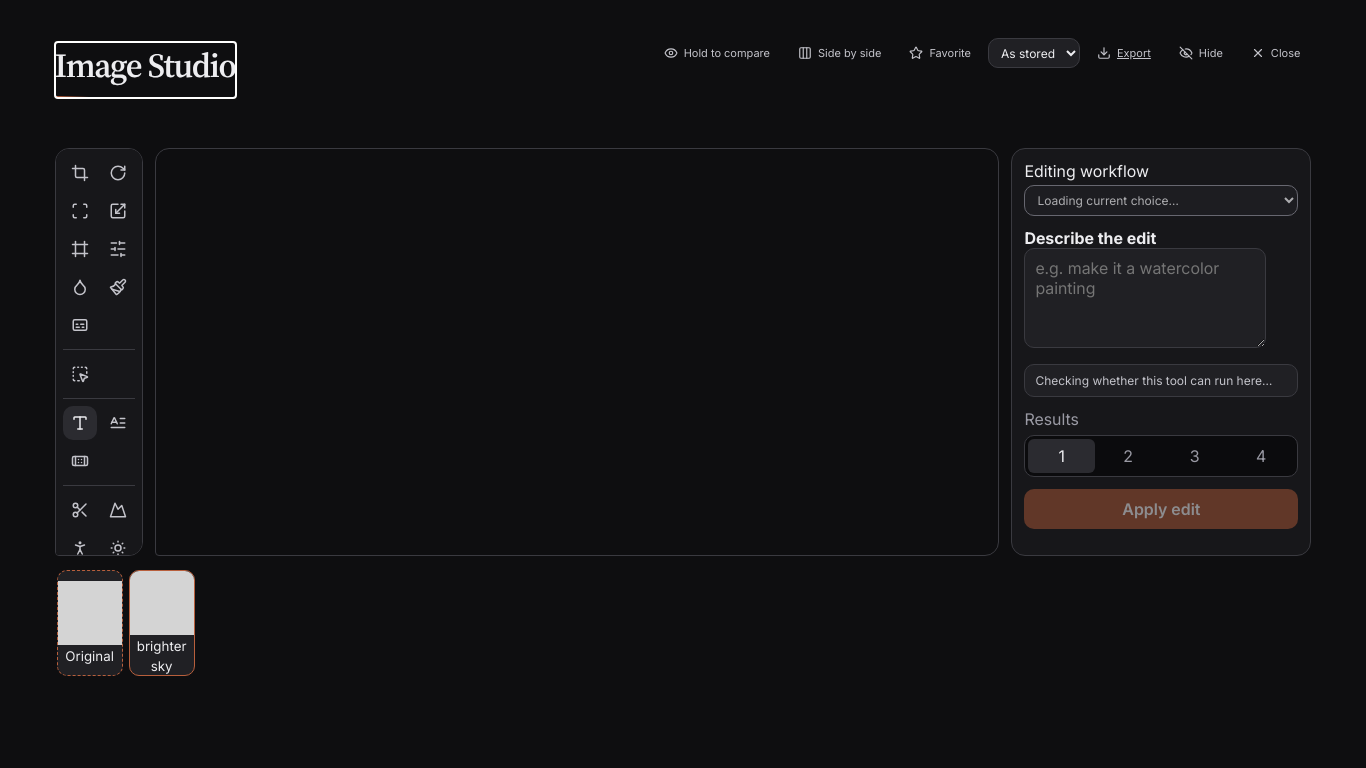
Test: side by side in the studio › puts a result beside a picture of another shape, which a split cannot line up
What coordinates should you click on to do the following:
click the button "Side by side"
I would click on:
 (840, 53)
Its box is x1=787 y1=38 x2=892 y2=68.
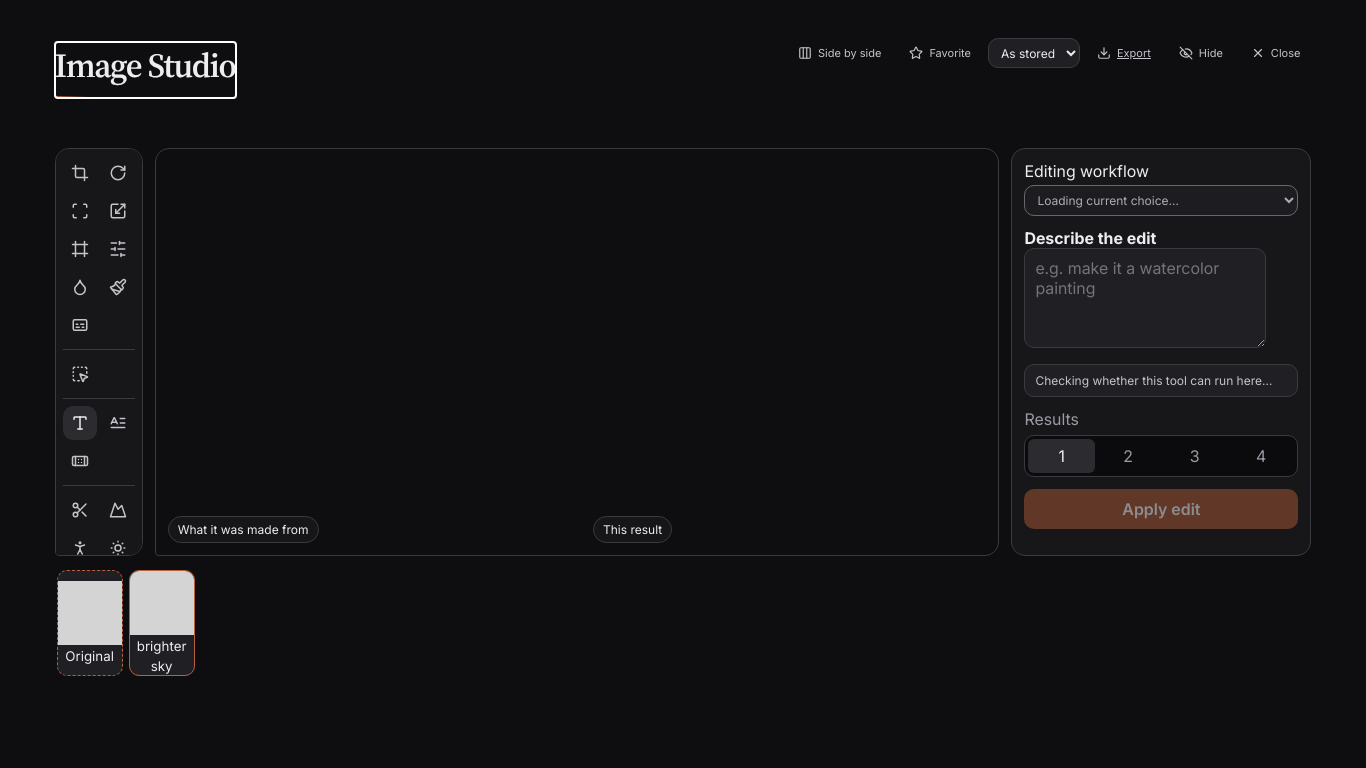
Now the element named "beside This result" is shown, box x1=156 y1=199 x2=781 y2=543
Now the text "What it was made from" is shown, box x1=168 y1=516 x2=318 y2=543
Now the button "Hold to compare" is gone
What coordinates should you click on to do the following:
click the button "Side by side"
I would click on:
 (840, 53)
Its box is x1=787 y1=38 x2=892 y2=68.
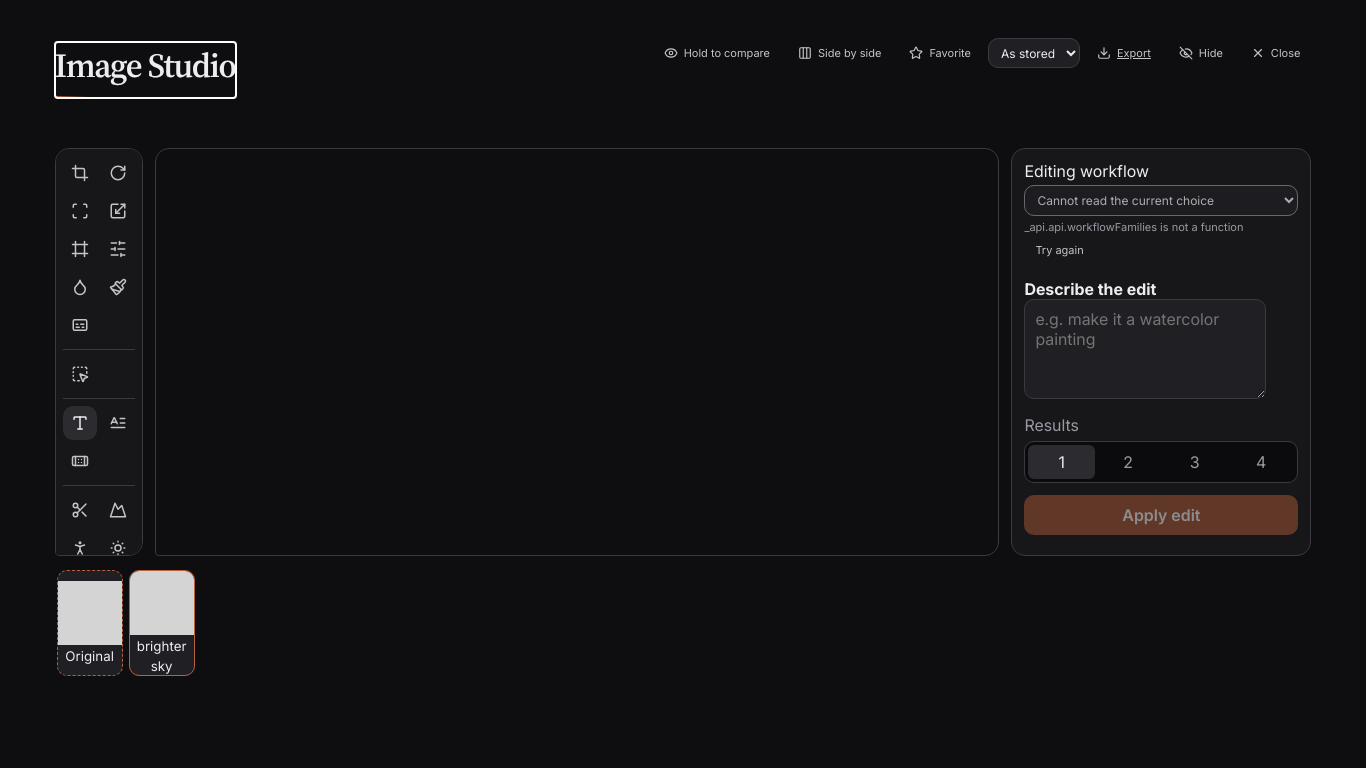
Expected: the element named "Image editing canvas" is shown, x1=156 y1=149 x2=756 y2=349
Now the button "Hold to compare" is shown, box x1=653 y1=38 x2=781 y2=68
